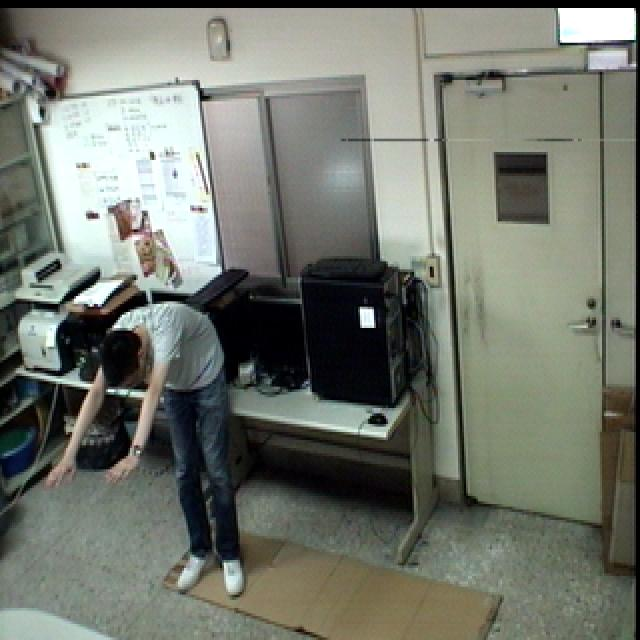bend: (38, 302, 246, 605)
